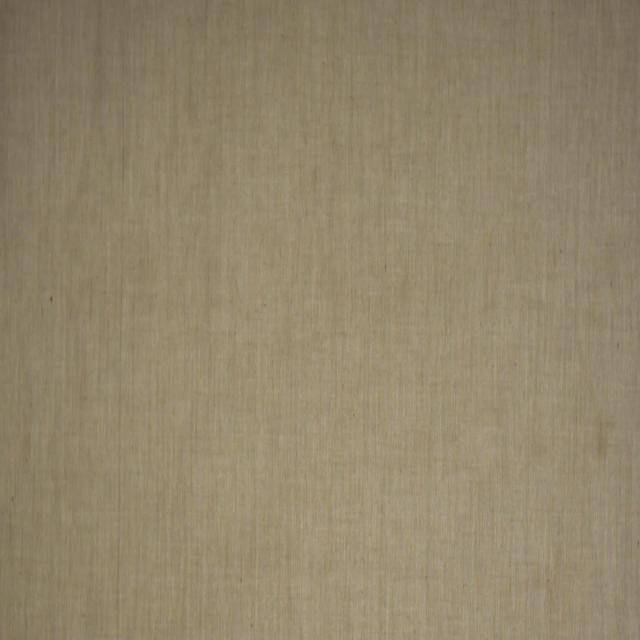dirty: (593, 408, 608, 462), (49, 294, 54, 306)
